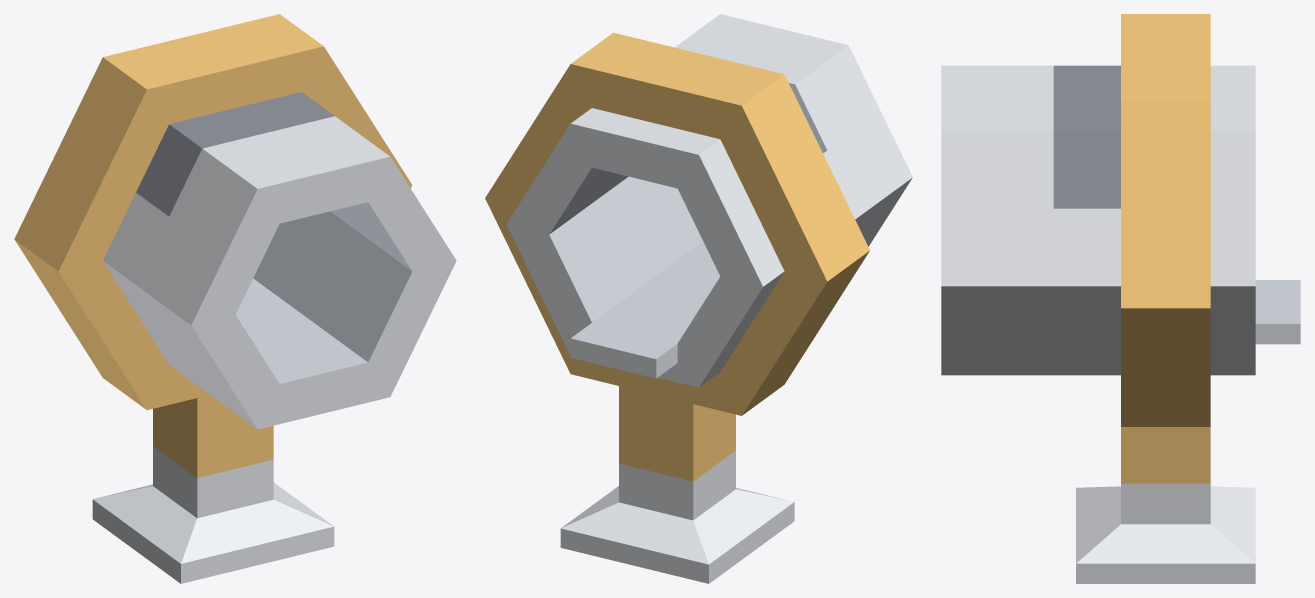
Rendered from piperingHighEnd-col.glb.
3 views of the same model, side by side, from view 1: azimuth 30°, elevation 25°; view 2: azimuth 150°, elevation 25°; view 3: azimuth 270°, elevation 25° (orthographic). The views are drawn at different scales.
Parts seen in each view (by area): view 1: piperingHighEnd-col; view 2: piperingHighEnd-col; view 3: piperingHighEnd-col.
Part boxes in pixels (box(x1,y1,x2,y2)): piperingHighEnd-col: box(14, 14, 456, 583); piperingHighEnd-col: box(485, 14, 912, 583); piperingHighEnd-col: box(941, 14, 1300, 583).
Size of the model in its own units: 0.9238 by 1.2 by 0.8.
